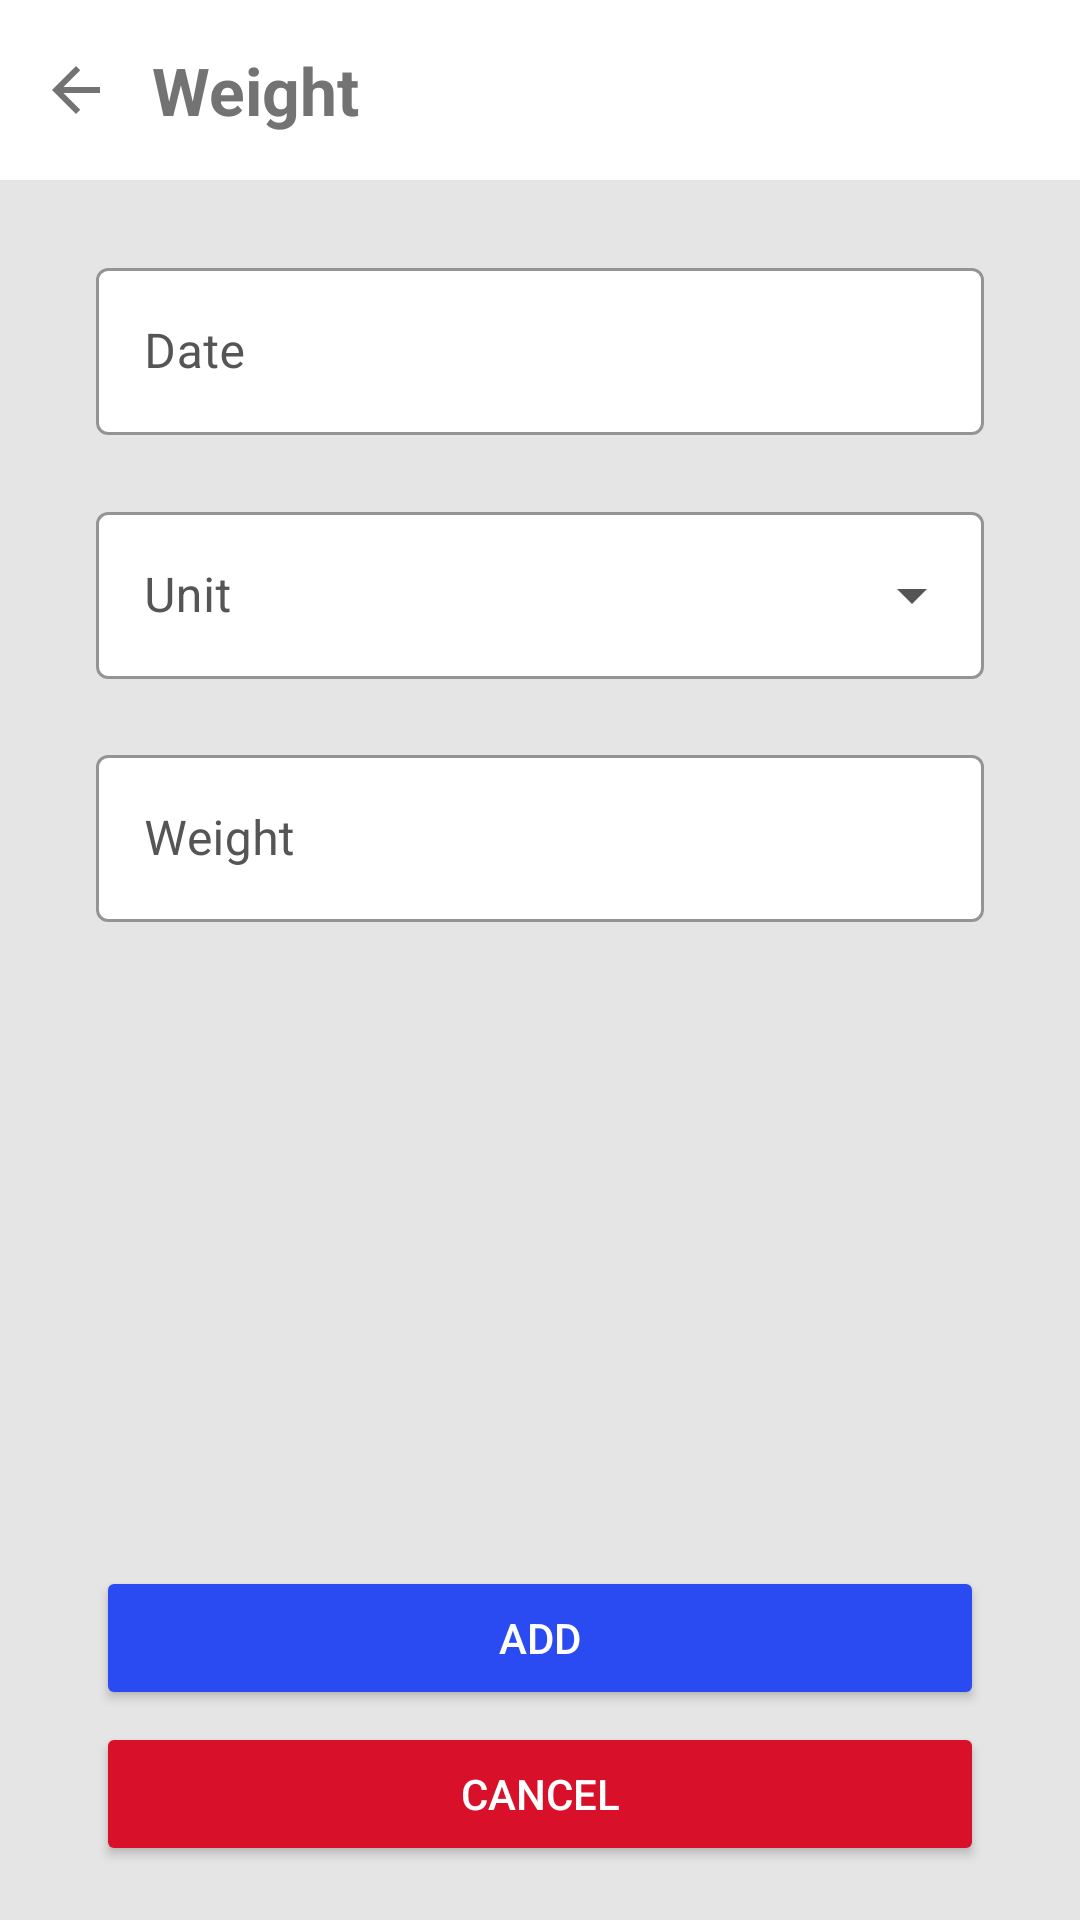

Named icons in this screenshot (1080 × 1920) and their bounding boxes, (x1, y1, x2, y2):
Back: (52, 66, 100, 114)
